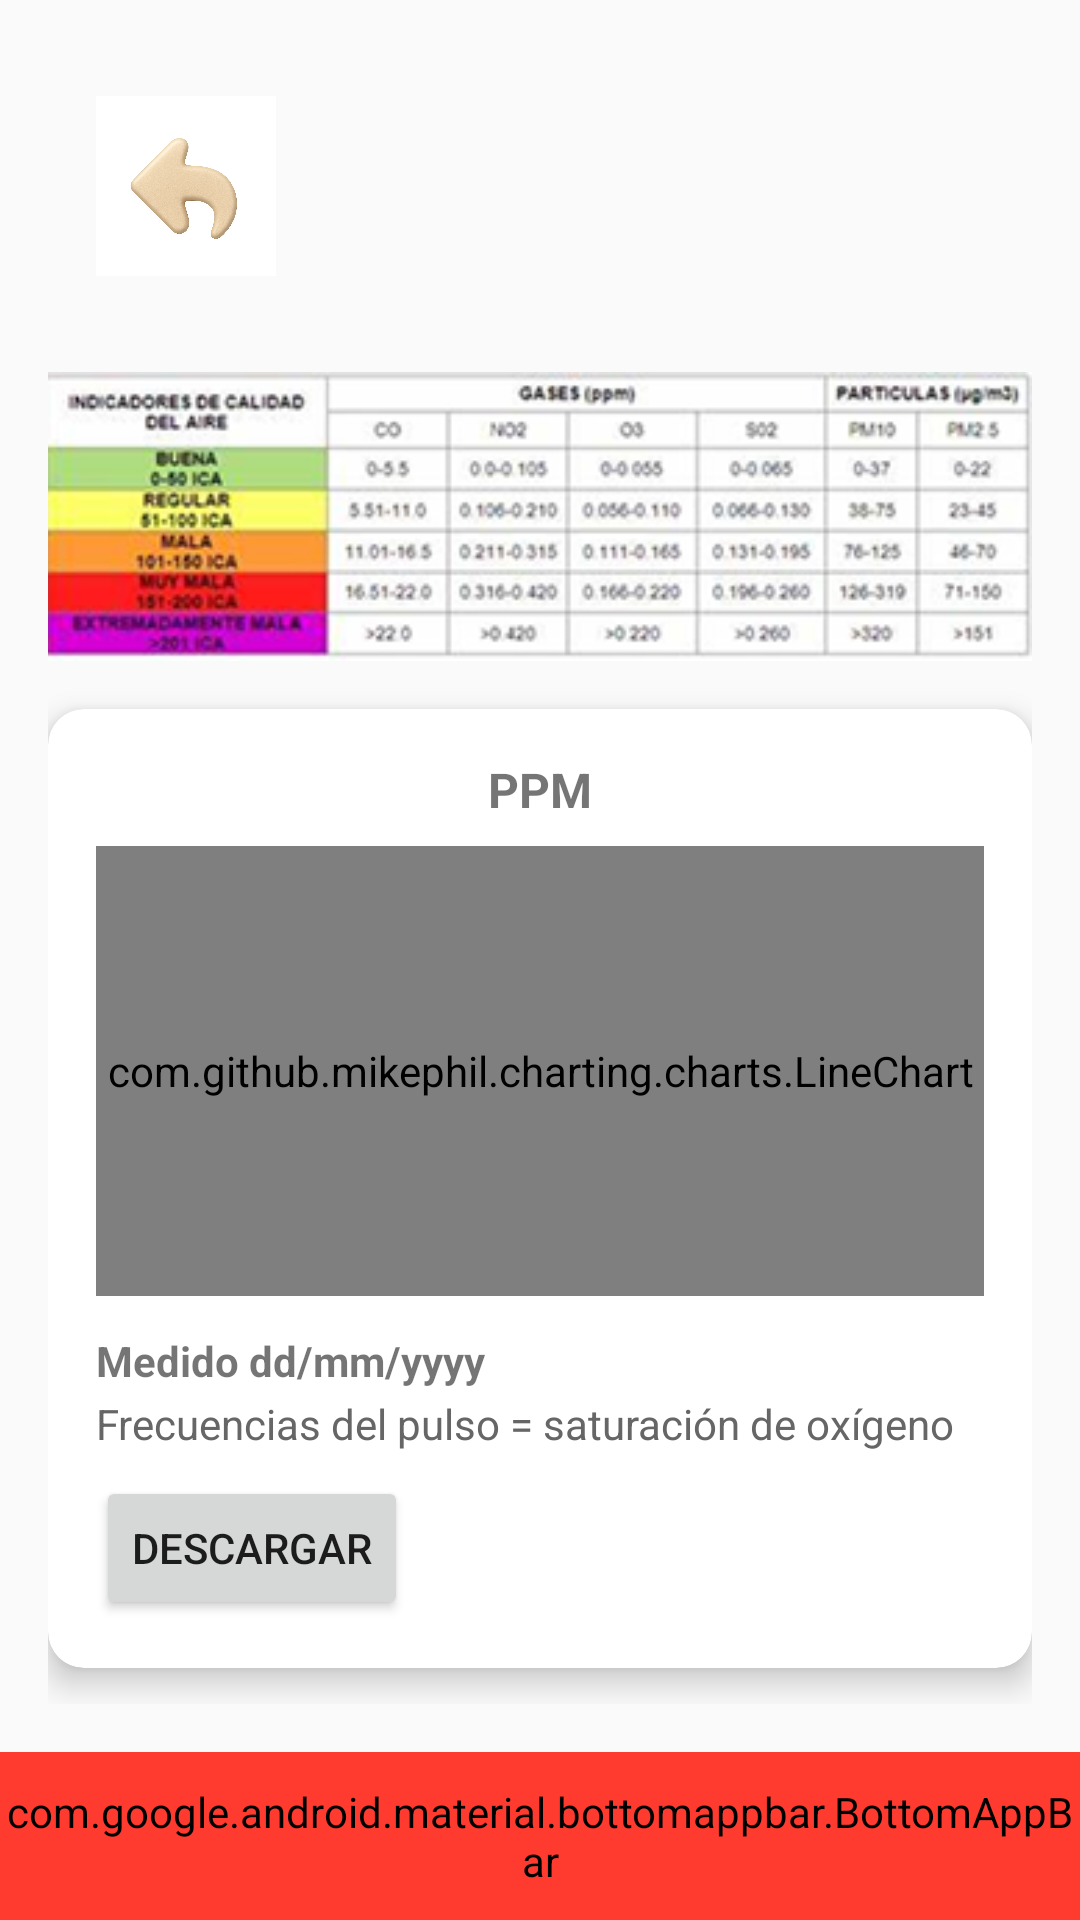

Icons on this 1080 × 1920 Android screen, each with its box as box=[x1, y1, x2, y2]:
Volver: box=[131, 138, 237, 239]
